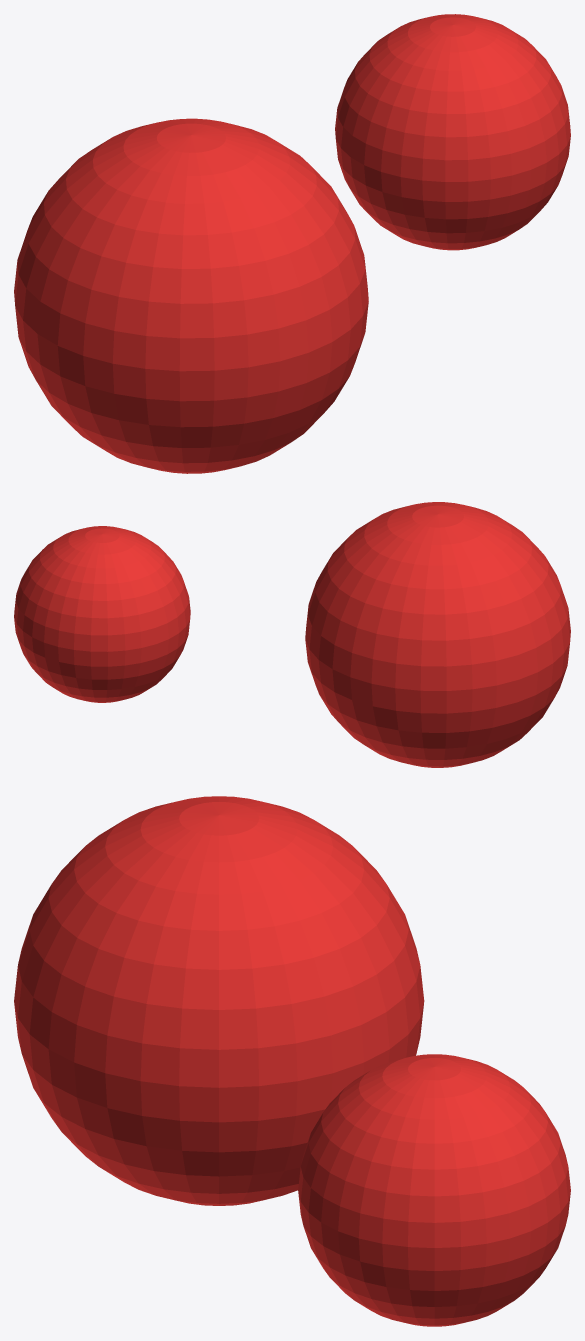
Rendered from two_circles_visual_perception.glb.
3 renders of one model, top to bottom at view 1: azimuth 30°, elevation 25°; view 2: azimuth 150°, elevation 25°; view 3: azimuth 270°, elevation 25°, orthographic. The views are drawn at different scales.
Parts seen in each view (by area): view 1: Sphere, Sphere.001; view 2: Sphere, Sphere.001; view 3: Sphere, Sphere.001.
Boxes of the visible parts, x1,y1,x2,y2 form: Sphere: (14, 118, 368, 473); Sphere.001: (335, 14, 570, 250); Sphere: (305, 502, 570, 767); Sphere.001: (14, 526, 190, 702); Sphere: (14, 796, 424, 1205); Sphere.001: (298, 1054, 570, 1326).
Size of the model in its own units: 3.97 by 2 by 2.72.
